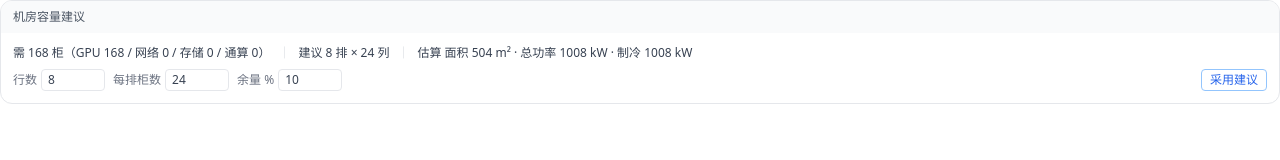
Test case: B1-10 规划阶段容量建议卡（FR-A08） › T-B1-21 手改每排柜数 → 显示人工调整与偏离量，计算值仍可见
expect the text "需 168 柜（GPU 168 / 网络 0 / 存储 0 / 通算 0）" is shown: met, box [13,44,270,61]
expect the text "建议 8 排 × 24 列" is shown: met, box [298,44,390,61]
Step 1. Replace the text in the number field labelled "每排柜数" with "20" → coordinates (197, 80), box [165,69,229,91]
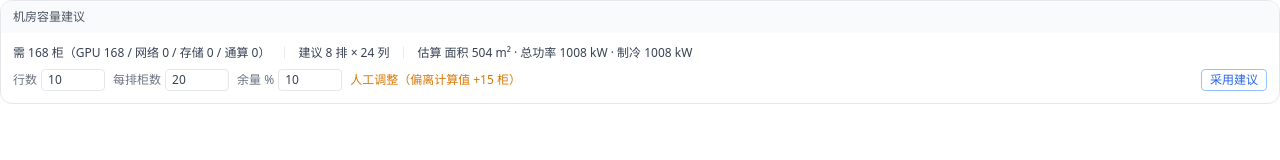
expect the text "需 168 柜（GPU 168" is shown: met, box [13,44,270,61]
expect the text "人工调整（偏离计算值 +15 柜）" is shown: met, box [350,72,521,88]
Step 2. Replace the text in the number field labelled "每排柜数" with "30" → coordinates (197, 80), box [165,69,229,91]
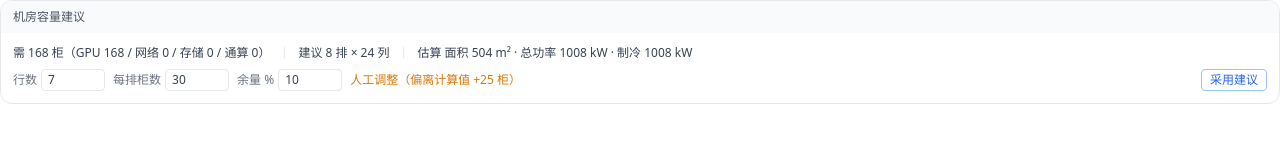
expect the text "人工调整（偏离计算值 +25 柜）" is shown: met, box [350,72,521,88]
